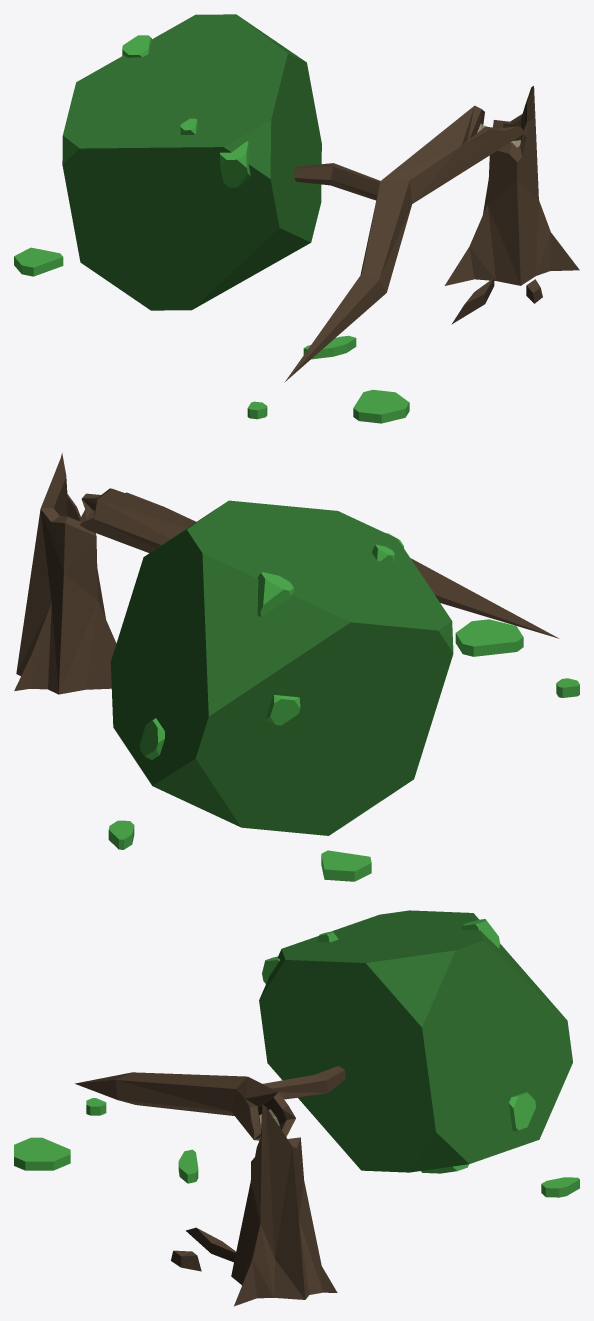
Rendered from Tree_E_05.FBX.
3 renders of one model, top to bottom at view 1: azimuth 30°, elevation 25°; view 2: azimuth 150°, elevation 25°; view 3: azimuth 270°, elevation 25°, orthographic. The views are drawn at different scales.
Parts seen in each view (by area): view 1: Tree_E_05; view 2: Tree_E_05; view 3: Tree_E_05.
Part boxes in pixels (x1,y1,x2,y2): Tree_E_05: [14, 14, 579, 423]; Tree_E_05: [14, 452, 579, 881]; Tree_E_05: [14, 910, 579, 1306].
Bounding box in the file's own units: 2.56 × 1.34 × 2.8.
